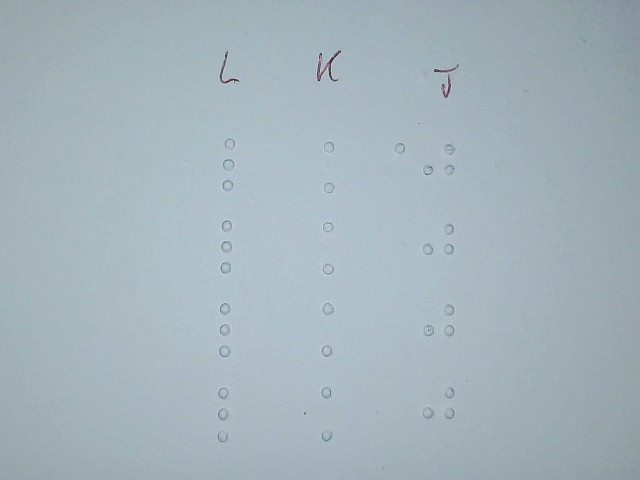J: (420, 135, 457, 190), (419, 215, 456, 270), (421, 294, 458, 349), (420, 378, 457, 433)
K: (315, 137, 358, 195), (314, 218, 357, 276), (314, 299, 357, 357), (313, 383, 356, 441)
L: (213, 135, 256, 193), (213, 217, 256, 275), (211, 300, 254, 358), (210, 384, 253, 442)
